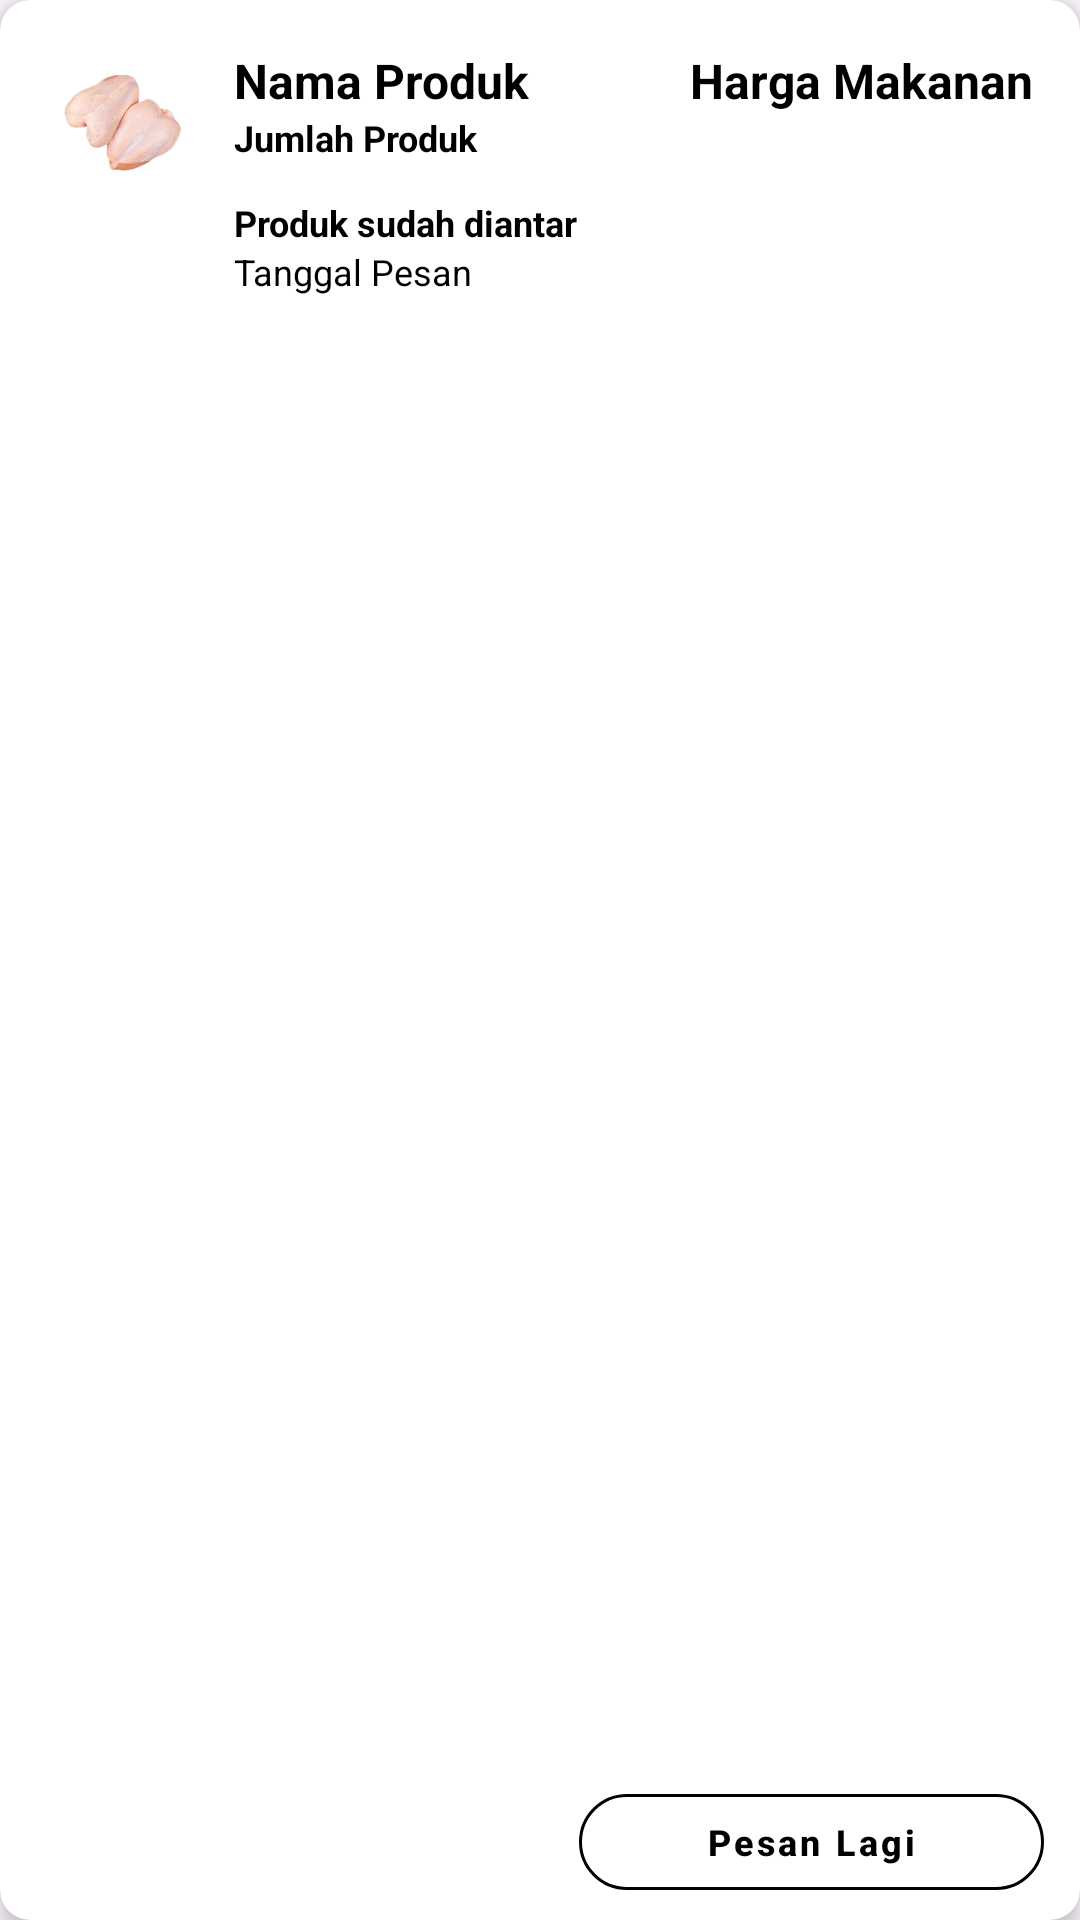

Screen size 1080 × 1920. Icon name, then its center in pixels as (x=x, y=y):
dada ayam: (x=123, y=123)
